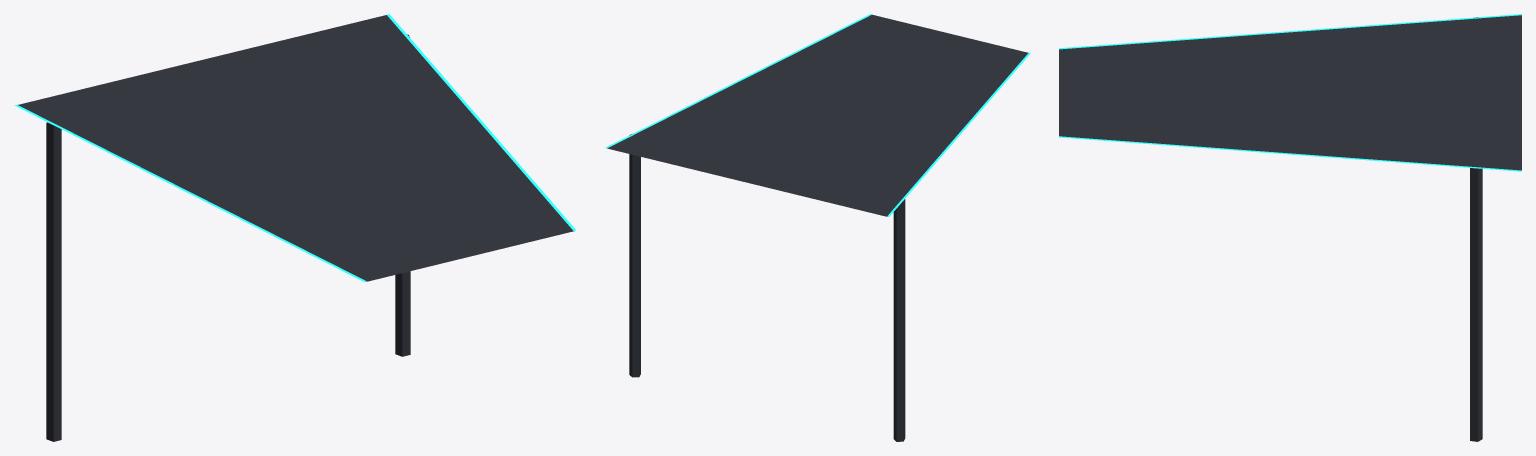
The model's file is road_widen.glb.
3 views of the same model, side by side, from view 1: azimuth 30°, elevation 25°; view 2: azimuth 150°, elevation 25°; view 3: azimuth 270°, elevation 25° (orthographic). The views are drawn at different scales.
Parts seen in each view (by area): view 1: ENV_ROAD_WIDEN_01_LITE; view 2: ENV_ROAD_WIDEN_01_LITE; view 3: ENV_ROAD_WIDEN_01_LITE.
Part boxes in pixels (x1=…): ENV_ROAD_WIDEN_01_LITE: x1=14, y1=14, x2=576, y2=441; ENV_ROAD_WIDEN_01_LITE: x1=605, y1=14, x2=1030, y2=441; ENV_ROAD_WIDEN_01_LITE: x1=1059, y1=14, x2=1521, y2=441.
Size of the model in its own units: 32.25 by 26.02 by 40.
